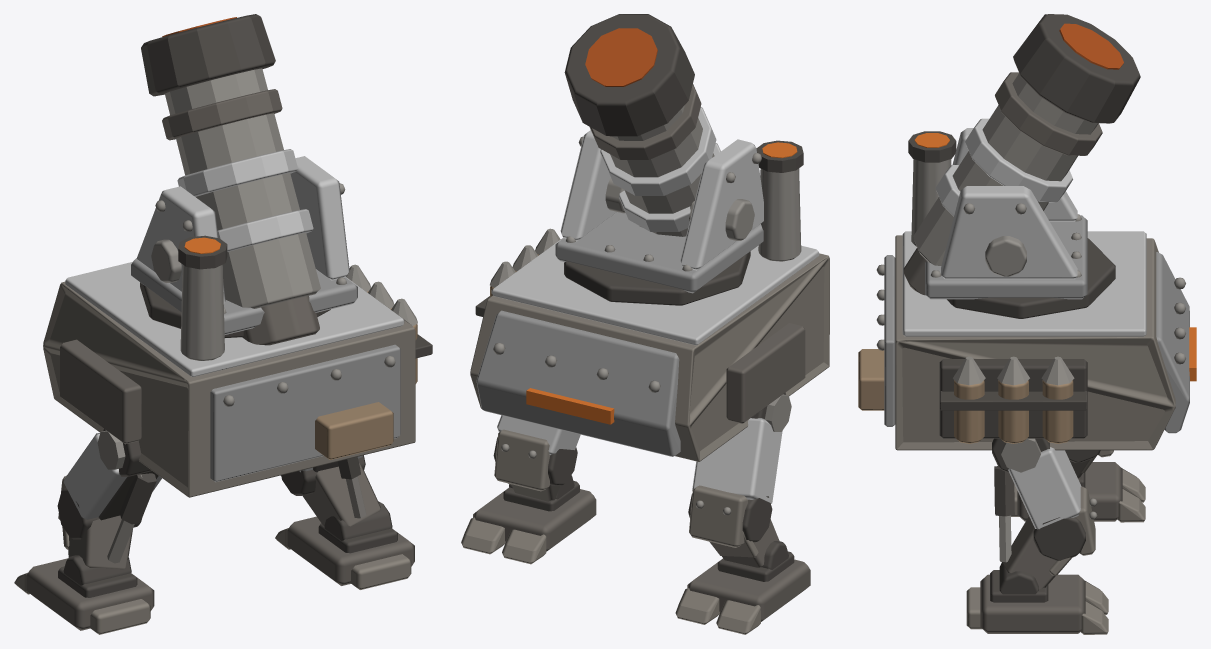
Rendered from crucible_mortar_bot.glb.
The picture shows the model from 3 angles, left to right: view 1: azimuth 30°, elevation 25°; view 2: azimuth 150°, elevation 25°; view 3: azimuth 270°, elevation 25°; orthographic projection. The views are drawn at different scales.
Parts seen in each view (by area): view 1: Body, Turret; view 2: Body, Turret; view 3: Body, Turret.
Part boxes in pixels (x1,y1,x2,y2): Body: (14, 235, 432, 634); Turret: (131, 14, 357, 345); Body: (461, 140, 829, 634); Turret: (555, 14, 763, 305); Body: (858, 131, 1196, 634); Turret: (903, 14, 1140, 318).
Size of the model in its own units: 0.96 by 1.61 by 0.915.
